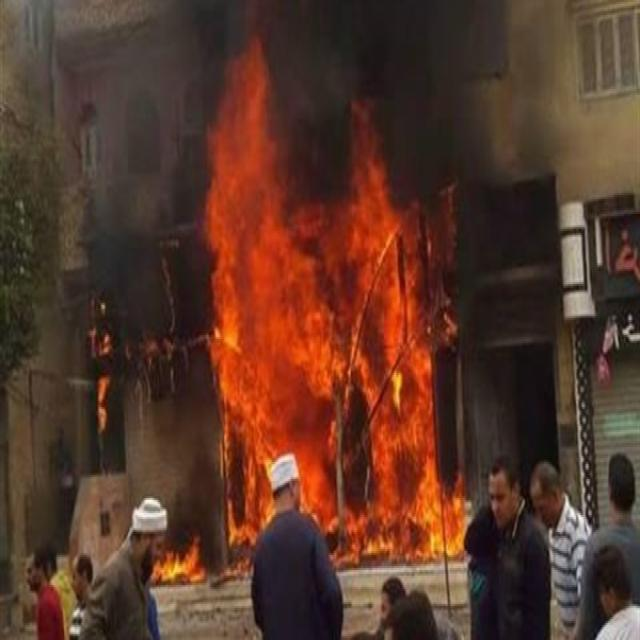fire: (192, 92, 463, 594)
person: (250, 454, 348, 636), (463, 462, 551, 638), (78, 498, 172, 640), (526, 460, 590, 638), (556, 544, 639, 640), (12, 536, 62, 640), (368, 578, 443, 639)
